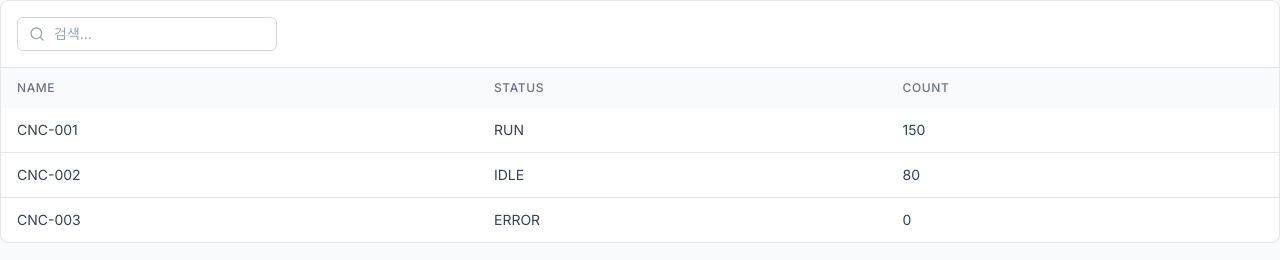
DynamicDataTable › filters data based on search input
The width and height of the screenshot is (1280, 260).
In the field with placeholder "검색...": (147, 34) [17,17,277,51], type "CNC-001"
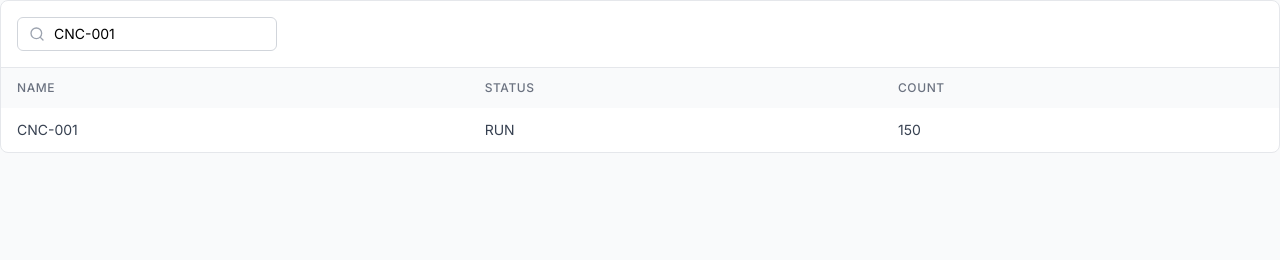
Check: the text "CNC-001" is shown, box [1,108,469,152]
Check: the text "CNC-002" is gone
